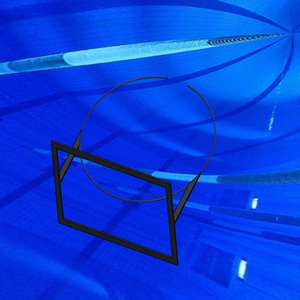circle: (50, 75, 218, 267)
